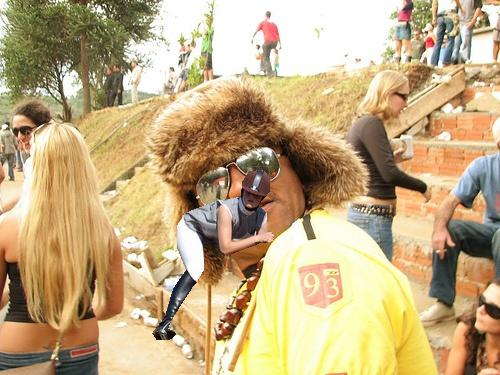tampered: (153, 171, 274, 340)
